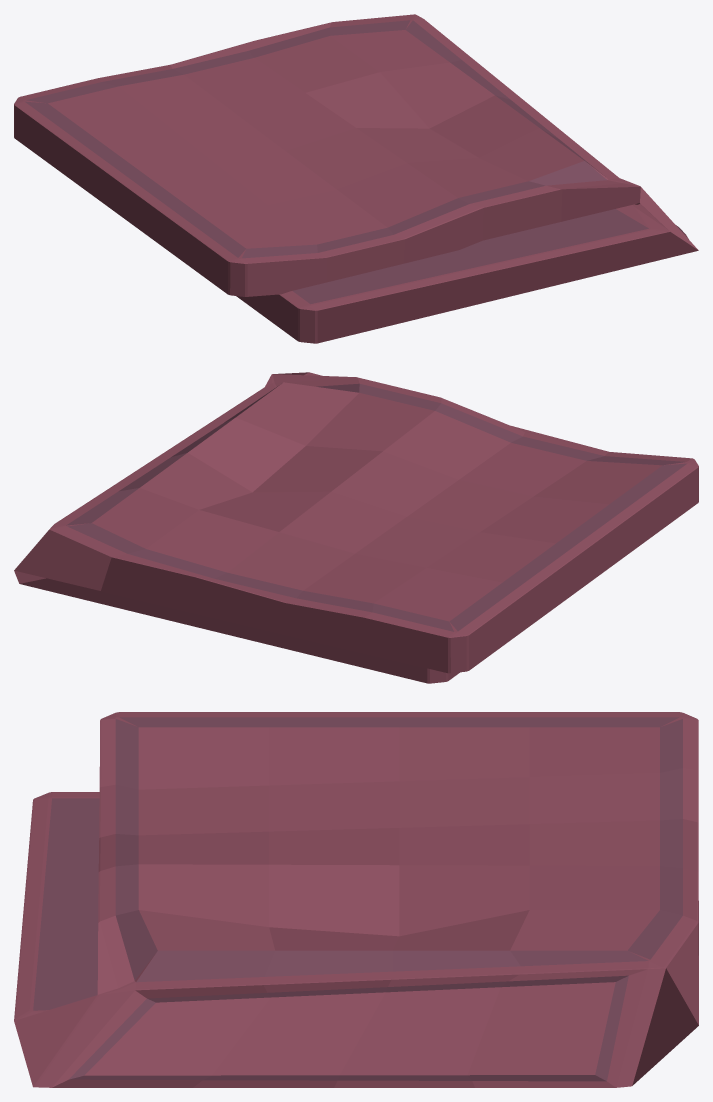
The model's file is Rag.fbx.
The picture shows the model from 3 angles, top to bottom: view 1: azimuth 30°, elevation 25°; view 2: azimuth 150°, elevation 25°; view 3: azimuth 270°, elevation 25°; orthographic projection. The views are drawn at different scales.
Visible parts, largest first — view 1: Cube; view 2: Cube; view 3: Cube.
Boxes of the visible parts, left/top/right/bottom form: Cube: left=14, top=14, right=698, bottom=343; Cube: left=14, top=372, right=698, bottom=683; Cube: left=14, top=712, right=698, bottom=1087.
Bounding box in the file's own units: 637 × 103 × 656.
